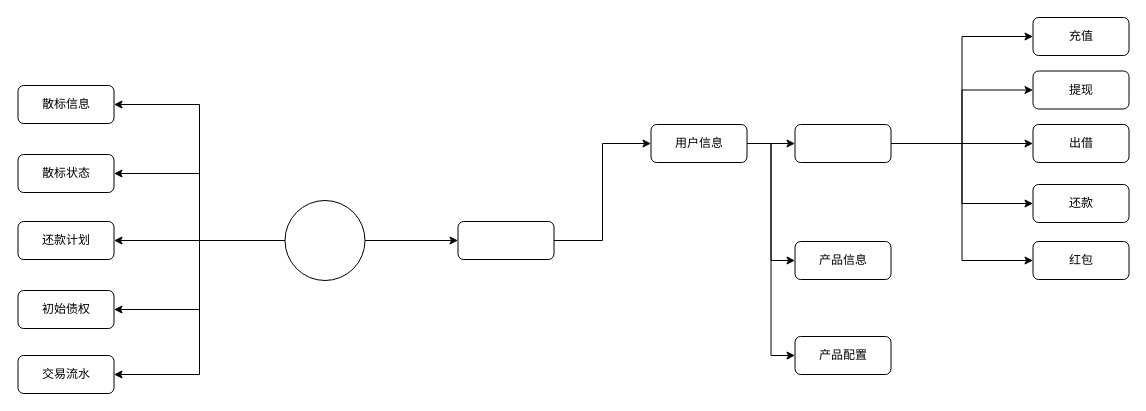
Some shapes in this 1146 by 411 pixel diagram are drawn without their labels. Here are the shapes that lost their labels. From the top down, the centre of each, then its label:
At point 842,143: "投资明细".
At point 324,240: "出借记录".
At point 505,240: "出借用户".
